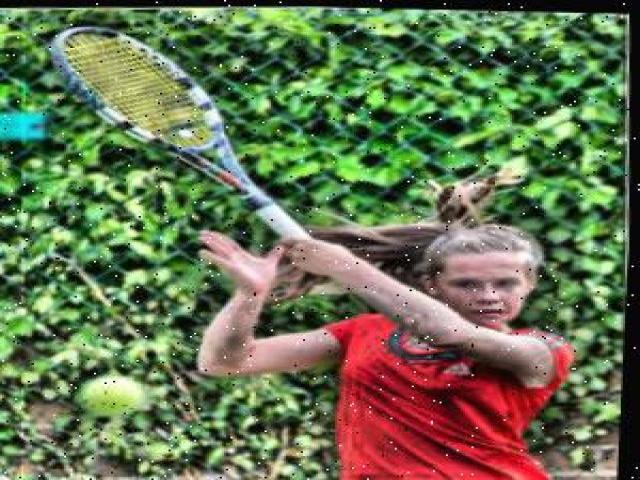tennis-ball: (81, 372, 154, 416)
